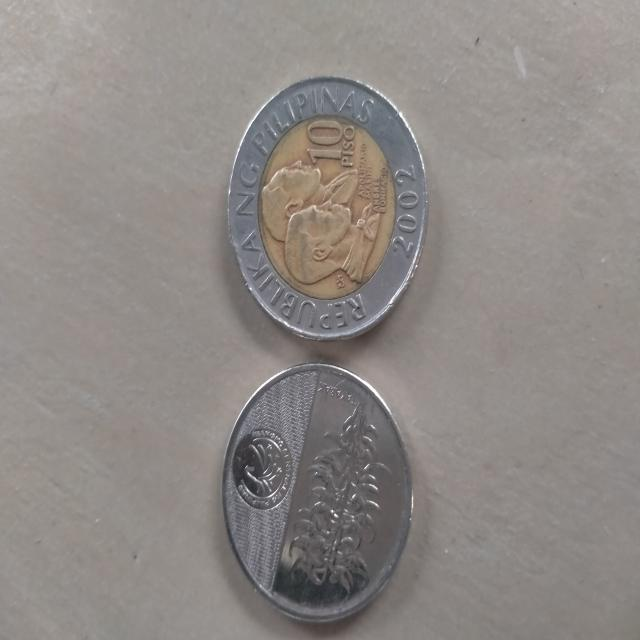10_Old_Front: (298, 108, 366, 184)
5_New_Back: (275, 399, 404, 599)
